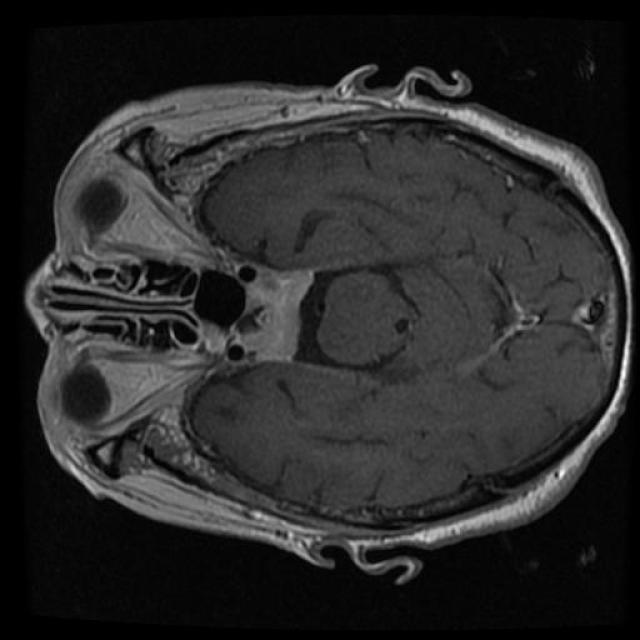Pituitary: (226, 271, 313, 360), (202, 322, 218, 351)
